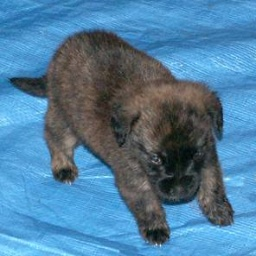dog: (7, 23, 232, 242)
